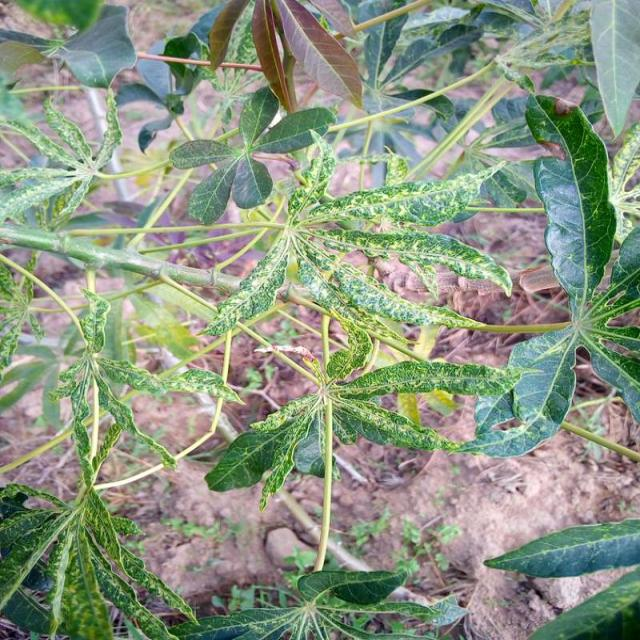cassava leaf: (523, 90, 617, 312), (482, 516, 640, 578)
